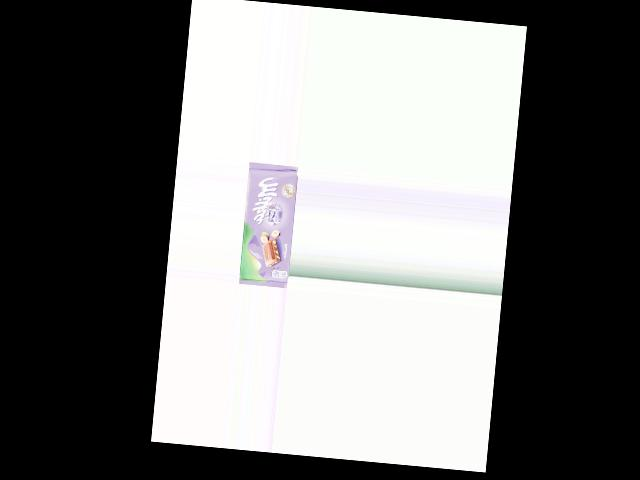chocolate: (238, 162, 299, 288)
